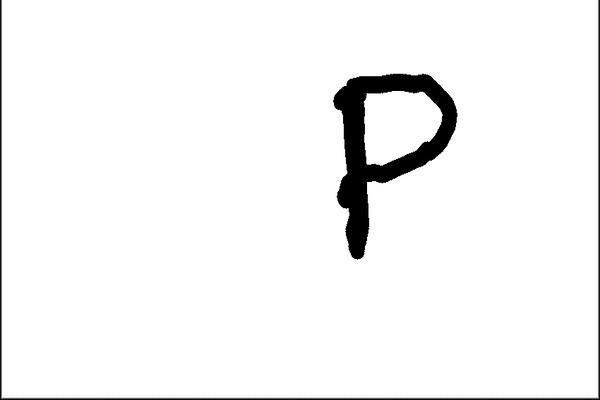P: (319, 63, 464, 265)
